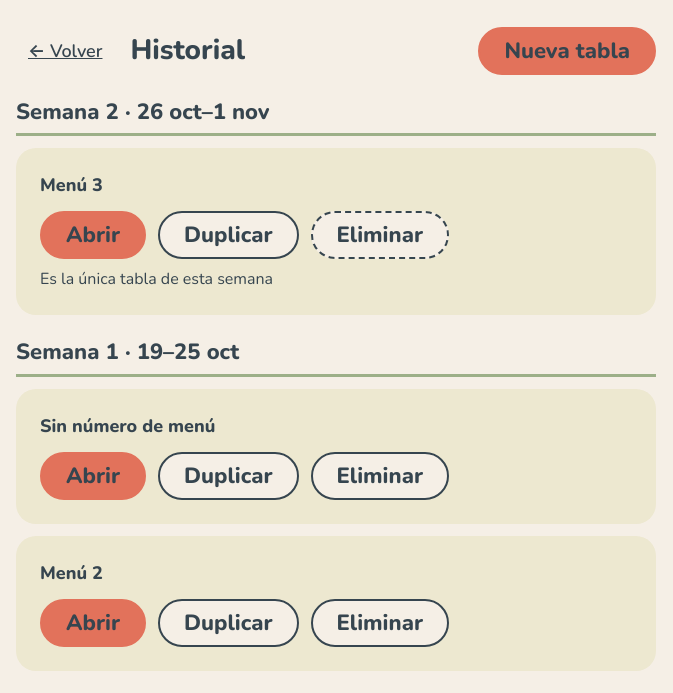
Test: HistoryScreen › la barra de deshacer se puede cerrar
This screenshot has width=673, height=693.
Expected: the text "Menú 3" is shown, 40,173 -> 103,197
Click the button "Eliminar" below "Menú 2": point(380, 623) 310,599 -> 449,647
(page scrolled)
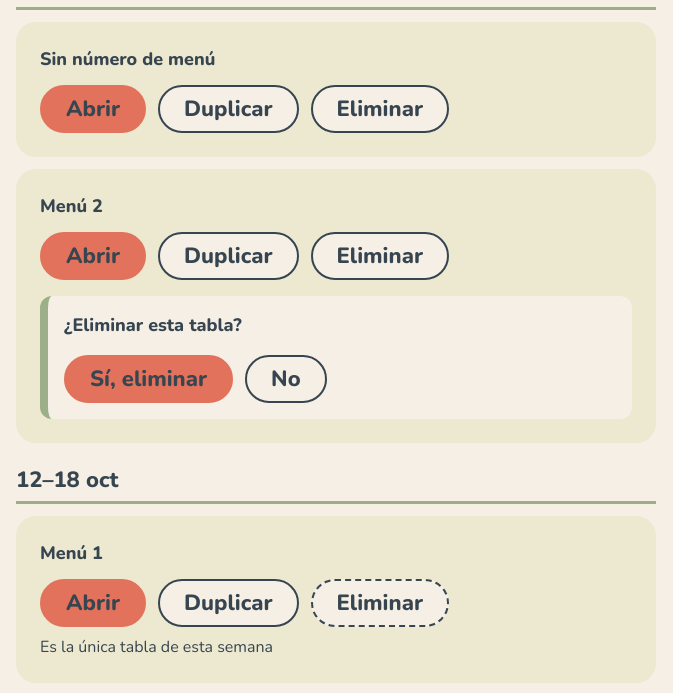
Click the button "Sí, eliminar": point(149, 379) 64,355 -> 233,403
(page scrolled)
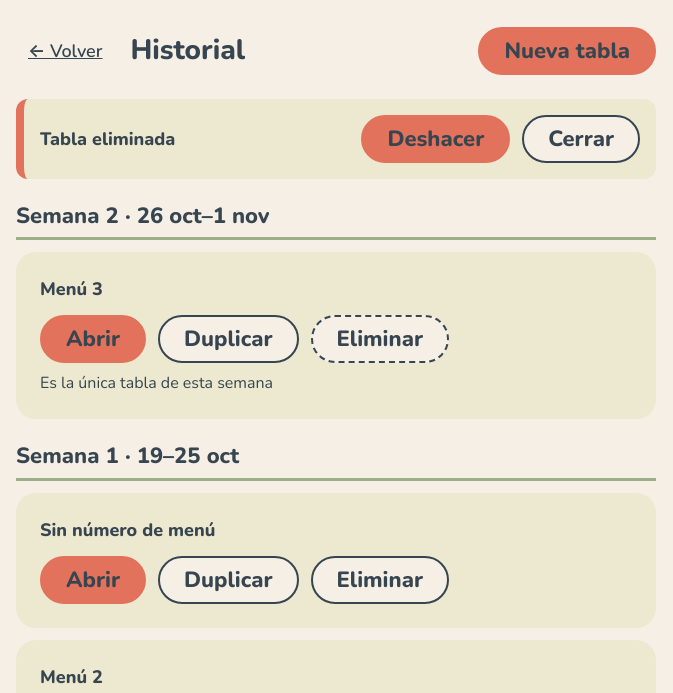
Click the button "Cerrar": point(581, 139) 522,115 -> 640,163
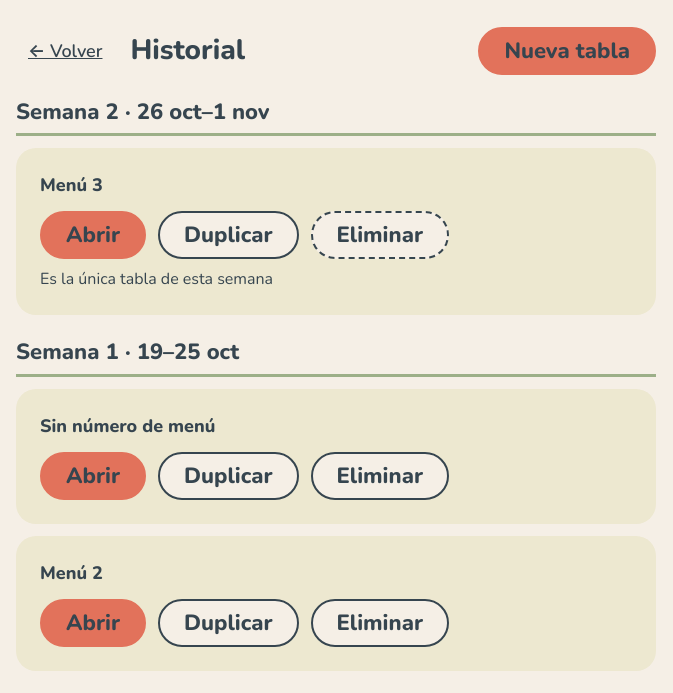
Now the message "Tabla eliminada Deshacer Cerrar" is gone
